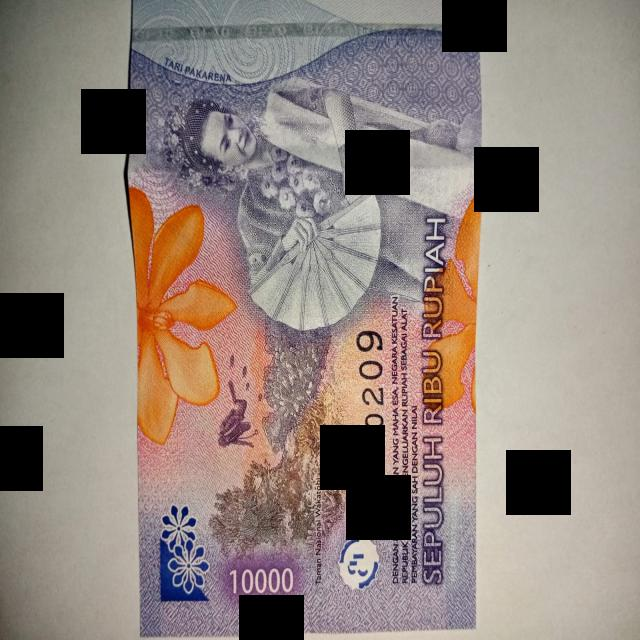sepuluhribu rupiah: (128, 0, 482, 635)
